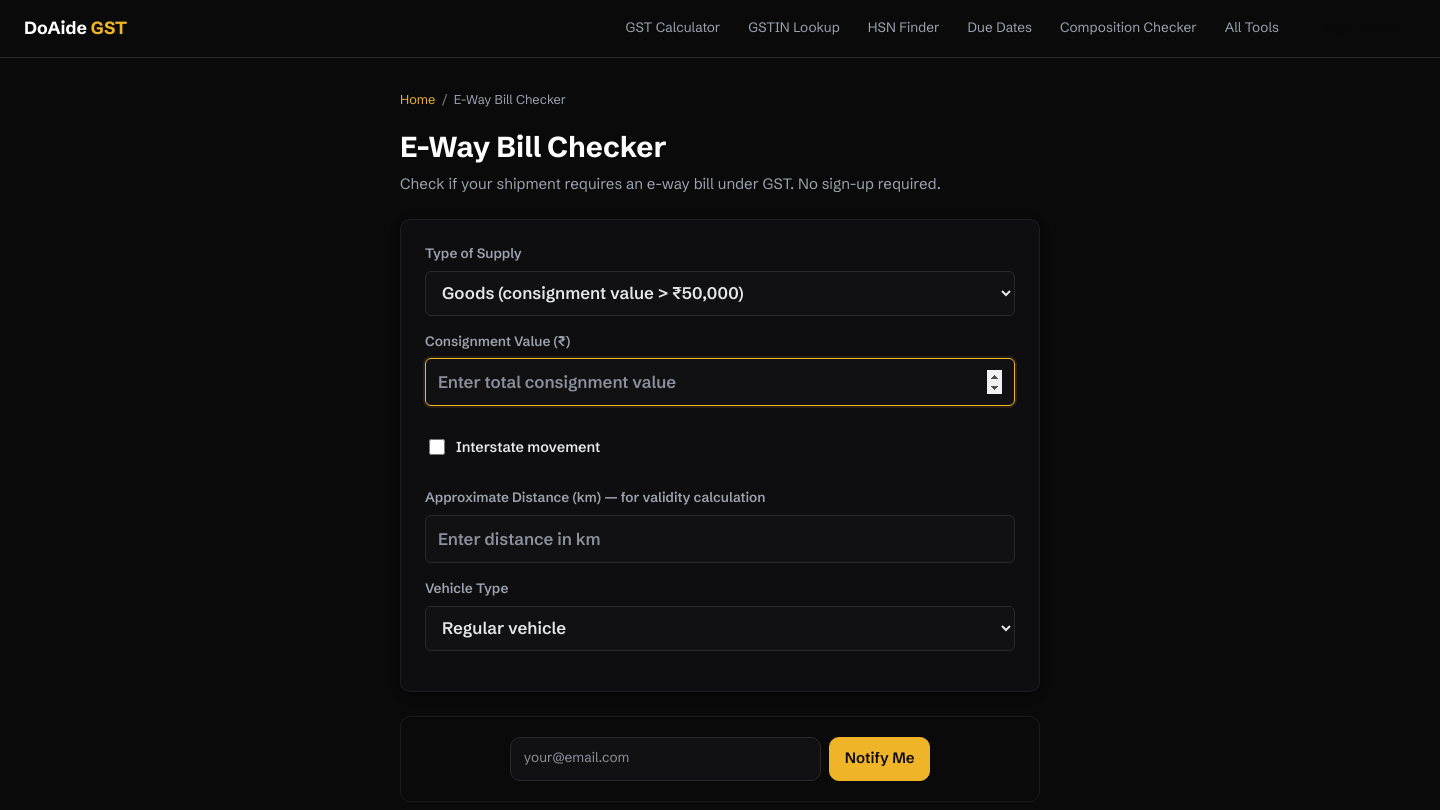
Test: EwayBillPage › shows not required for value below 50000
The width and height of the screenshot is (1440, 810).
Type "30000" into the number field with placeholder "Enter total consignment value". click: (720, 382)
box: [425,358,1015,406]
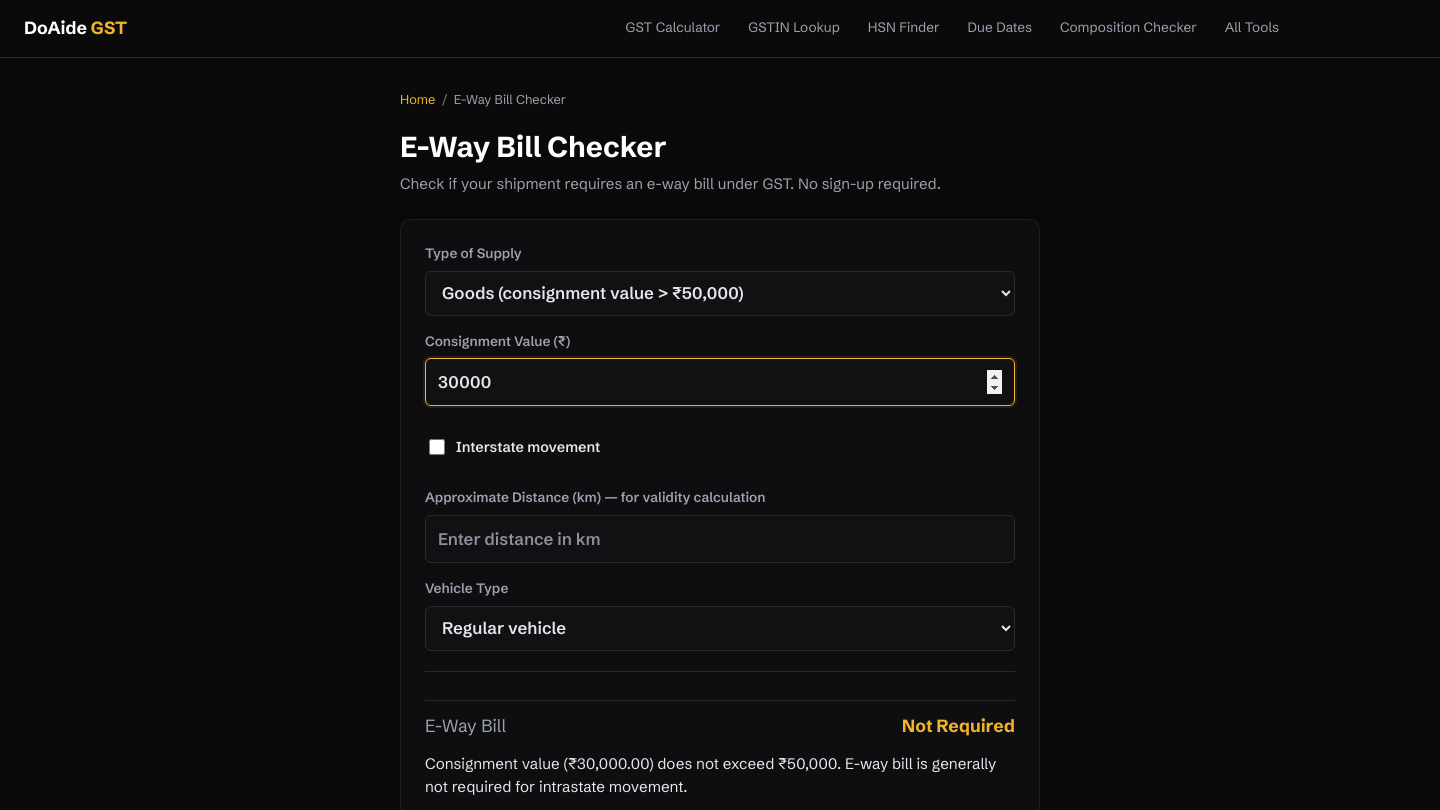
expect the text "Not Required" is shown: met, box [902,713,1015,739]
